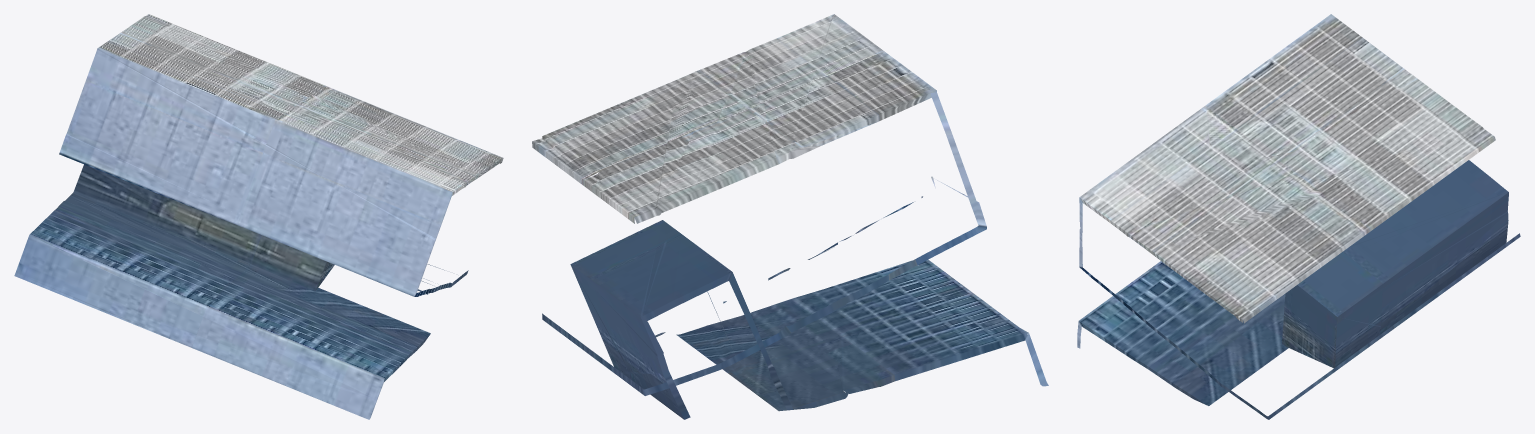
The model's file is congresso_tile_63.glb.
3 views of the same model, side by side, from view 1: azimuth 30°, elevation 25°; view 2: azimuth 150°, elevation 25°; view 3: azimuth 270°, elevation 25° (orthographic). The views are drawn at different scales.
Bounding box in the file's own units: 48.06 × 31.33 × 45.85.
Materials: 1 (1 with a texture image).
